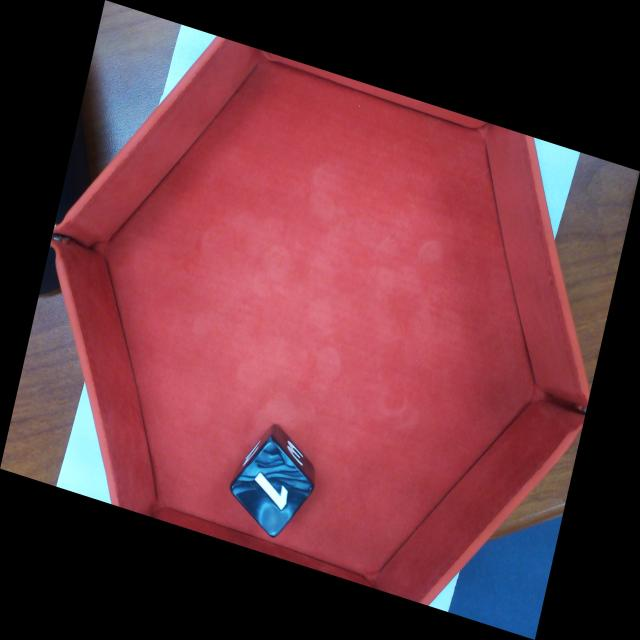dice: (231, 437, 315, 538)
